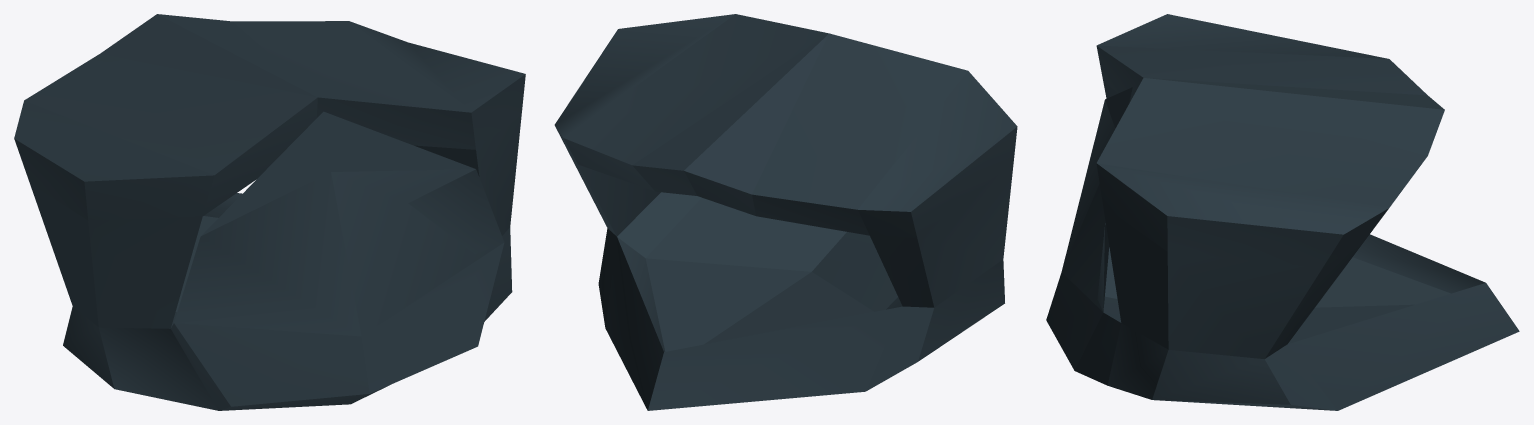
File: mech0cockpit.obj
3 views of the same model, side by side, from view 1: azimuth 30°, elevation 25°; view 2: azimuth 150°, elevation 25°; view 3: azimuth 270°, elevation 25° (orthographic). The views are drawn at different scales.
Parts seen in each view (by area): view 1: s.0744; view 2: s.0744; view 3: s.0744.
Boxes of the visible parts, left/top/right/bottom form: s.0744: left=14, top=14, right=525, bottom=410; s.0744: left=554, top=14, right=1017, bottom=410; s.0744: left=1046, top=14, right=1519, bottom=410.
Bounding box in the file's own units: 2.41 × 1.57 × 2.38.
